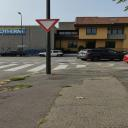preferencia: (35, 18, 60, 32)
